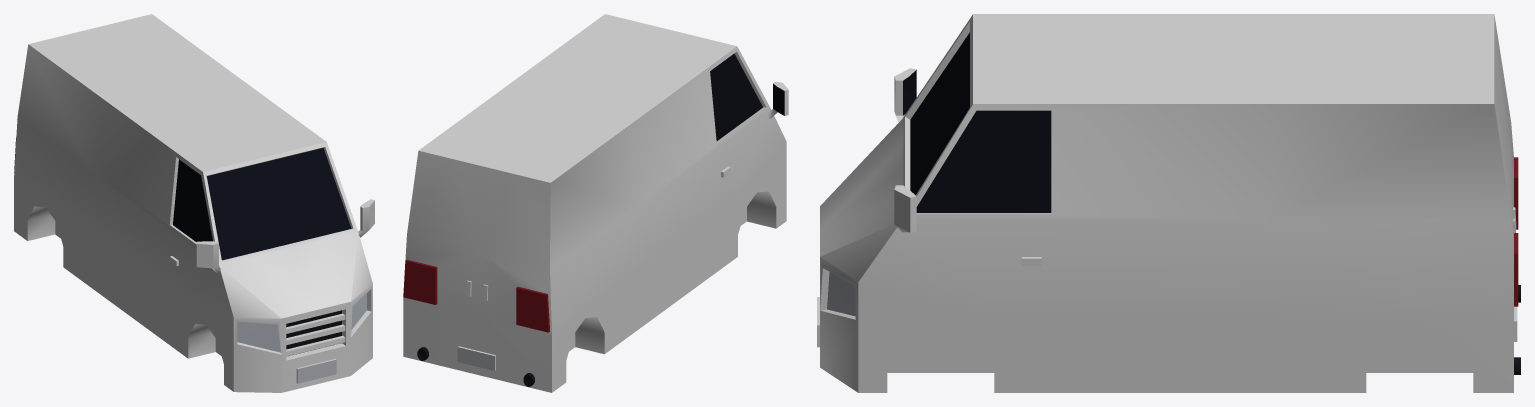
File: kei.glb
3 views of the same model, side by side, from view 1: azimuth 30°, elevation 25°; view 2: azimuth 150°, elevation 25°; view 3: azimuth 270°, elevation 25° (orthographic). The views are drawn at different scales.
Parts seen in each view (by area): view 1: kei; view 2: kei; view 3: kei.
Part boxes in pixels (box(x1,y1,x2,y2)): kei: box(14, 14, 374, 392); kei: box(403, 14, 788, 392); kei: box(817, 14, 1520, 392).
Bounding box in the file's own units: 1.49 × 1.52 × 3.42.
